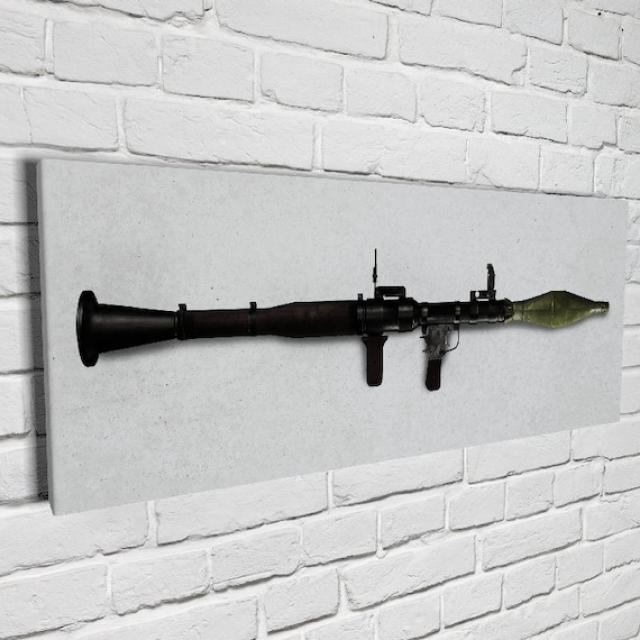Gun: (52, 250, 627, 400)
